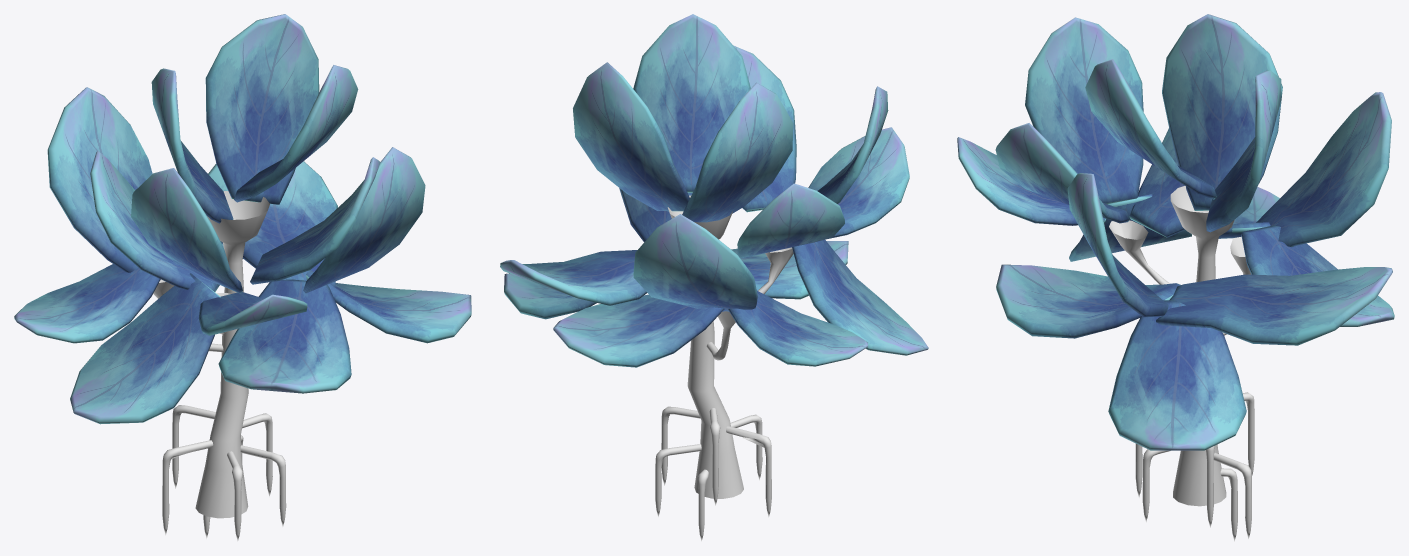
Rendered from MOD_Tree19.FBX.
The picture shows the model from 3 angles, left to right: view 1: azimuth 30°, elevation 25°; view 2: azimuth 150°, elevation 25°; view 3: azimuth 270°, elevation 25°; orthographic projection. The views are drawn at different scales.
Visible parts, largest first — view 1: Plane043, Cylinder011; view 2: Plane043, Cylinder011; view 3: Plane043, Cylinder011.
Boxes of the visible parts, box(x1,y1,x2,y2) form: Plane043: box(14, 14, 471, 424); Cylinder011: box(153, 191, 286, 541); Plane043: box(500, 14, 928, 367); Cylinder011: box(655, 195, 793, 541); Plane043: box(957, 14, 1394, 450); Cylinder011: box(1109, 186, 1254, 541).
Size of the model in its own units: 237 by 267 by 205.
